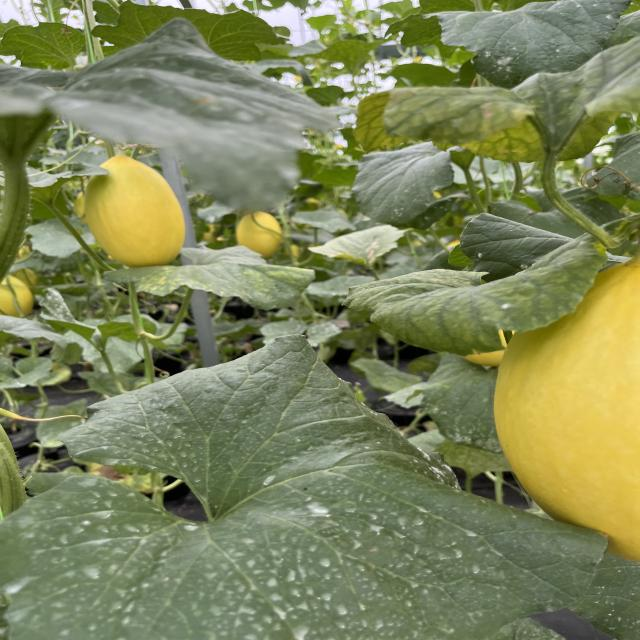downy mildew: (340, 242, 608, 359), (101, 244, 320, 312)
powdery mildew: (0, 331, 615, 640), (0, 14, 347, 214), (426, 0, 640, 88)
